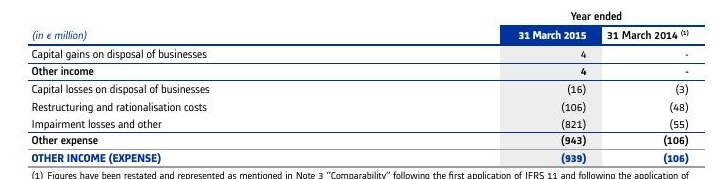table: (0, 0, 727, 179)
